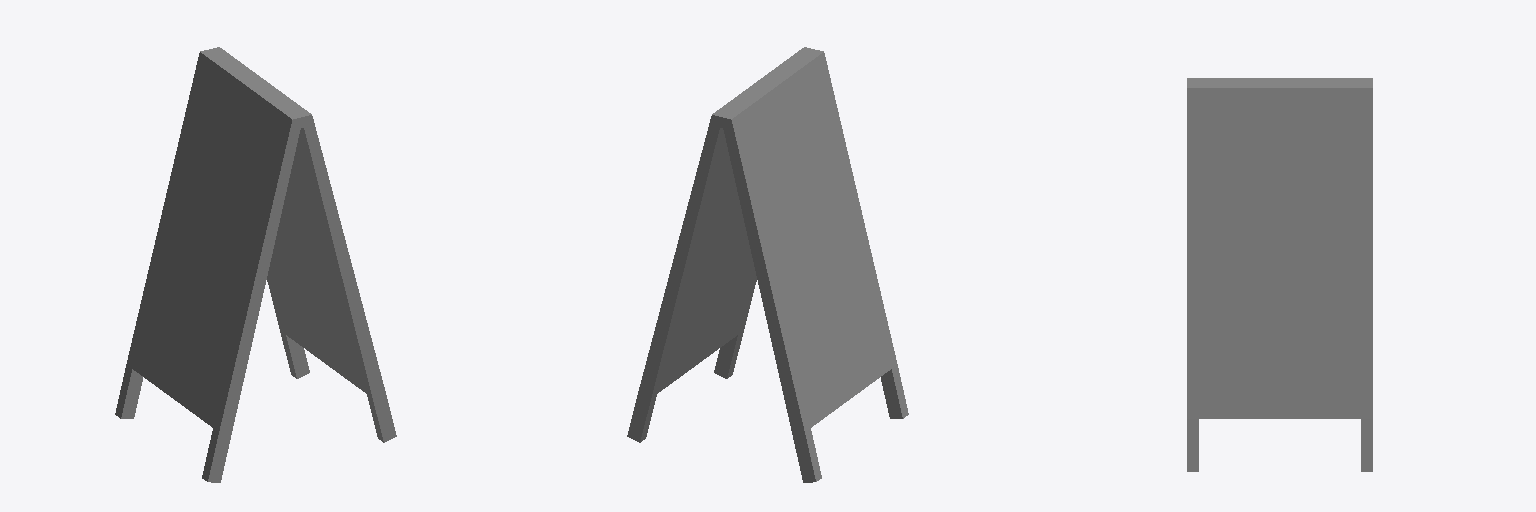
The model's file is panel.obj.
The picture shows the model from 3 angles: view 1: azimuth 30°, elevation 25°; view 2: azimuth 150°, elevation 25°; view 3: azimuth 270°, elevation 25°; orthographic projection.
Visible parts, largest first — view 1: panel; view 2: panel; view 3: panel.
Part boxes in pixels (bbox=[...]): panel: bbox=[115, 47, 396, 482]; panel: bbox=[627, 47, 908, 482]; panel: bbox=[1187, 78, 1372, 471].
Size of the model in its own units: 27.55 by 48.11 by 23.4.